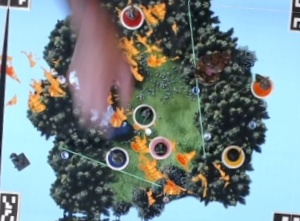blue: (101, 145, 133, 173)
green: (130, 100, 160, 128)
orange: (247, 72, 276, 100)
pink: (144, 133, 174, 163)
red: (115, 1, 148, 32)
yellow: (218, 140, 248, 170)
